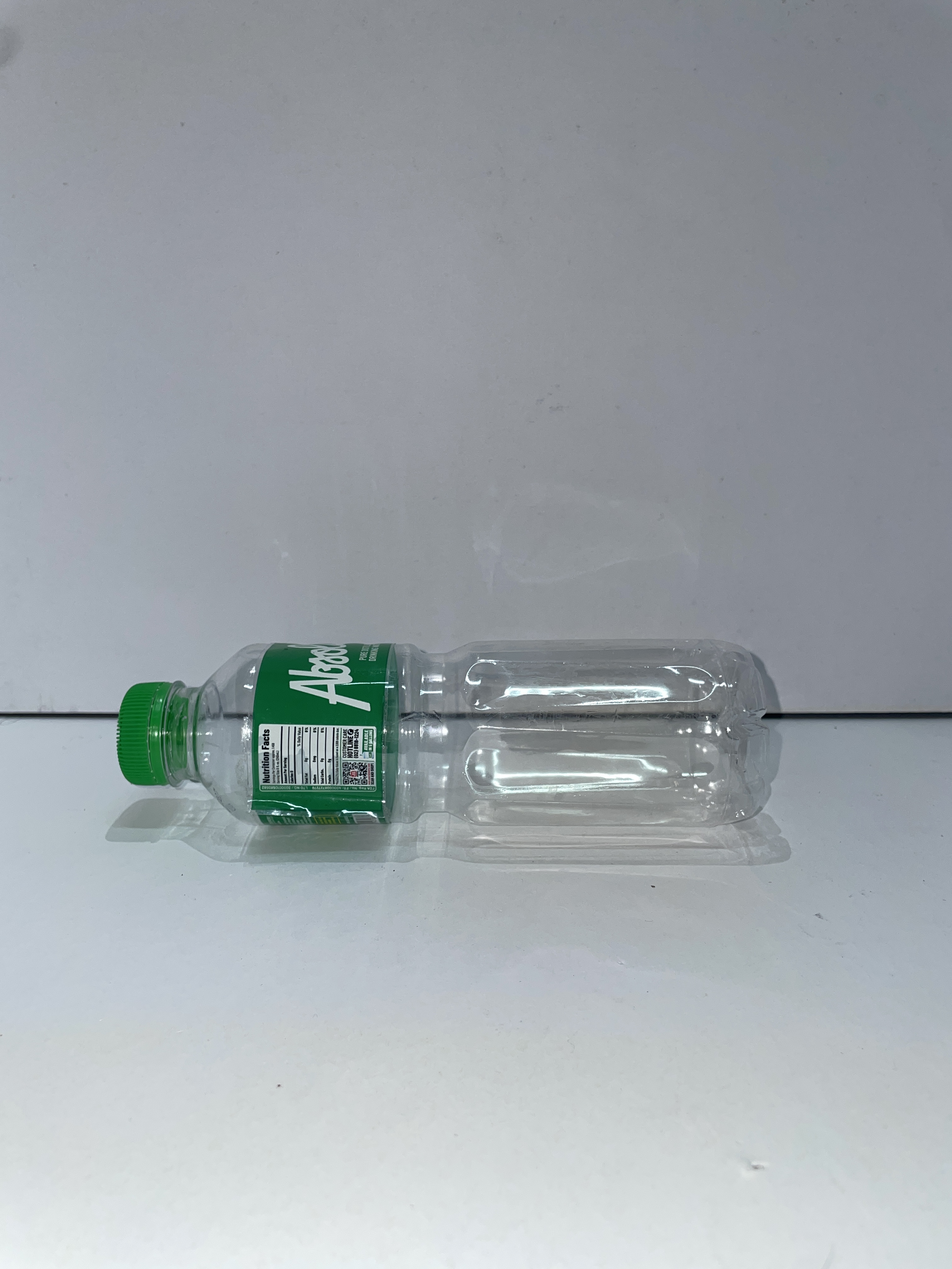Absolute 350ml: (117, 638, 769, 833)
